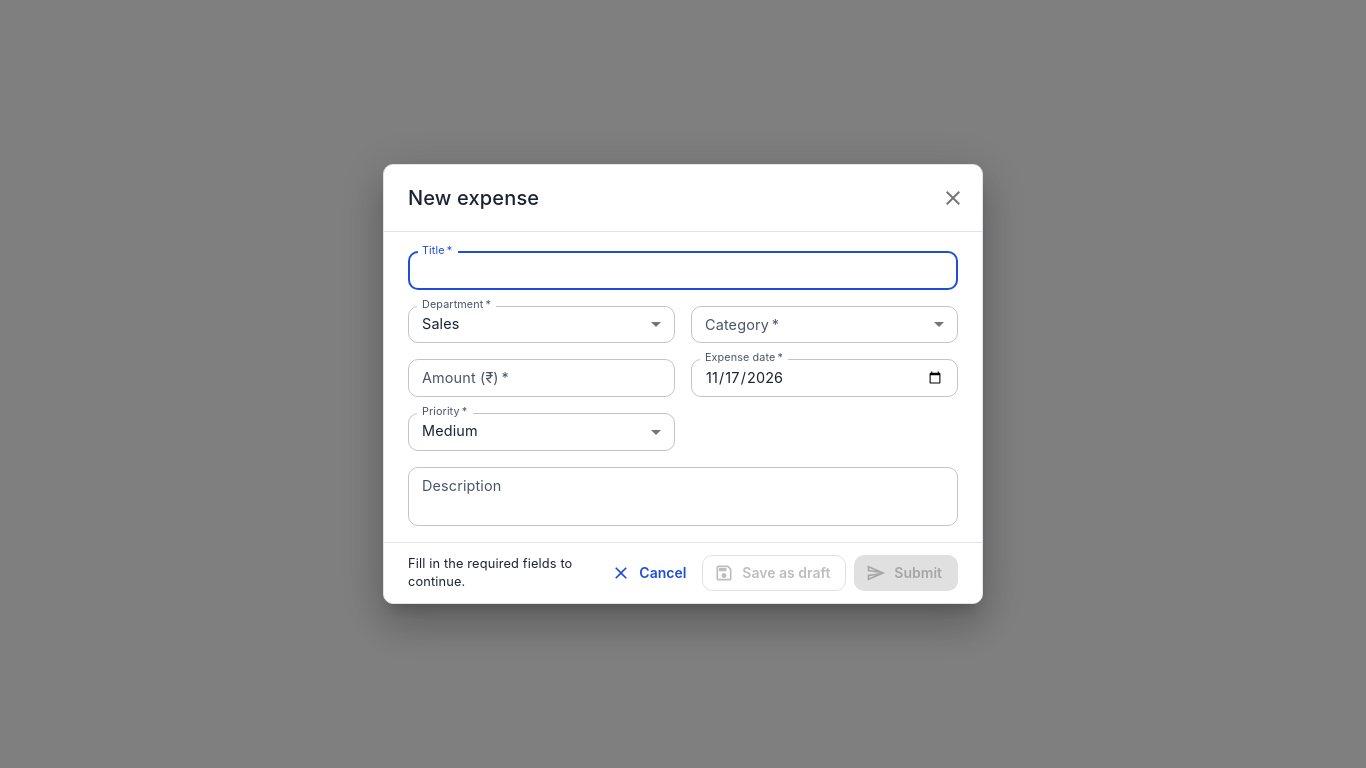
Test case: create expense form › keeps Save as draft and Submit disabled until the required fields are valid
Expected: the button "Save as draft" is disabled, left=702, top=555, right=846, bottom=591
Expected: the button "Submit" is disabled, left=854, top=555, right=958, bottom=591
Type "Airport Taxi" into the field labelled "Title *". click: [683, 271]
box: left=408, top=252, right=958, bottom=290
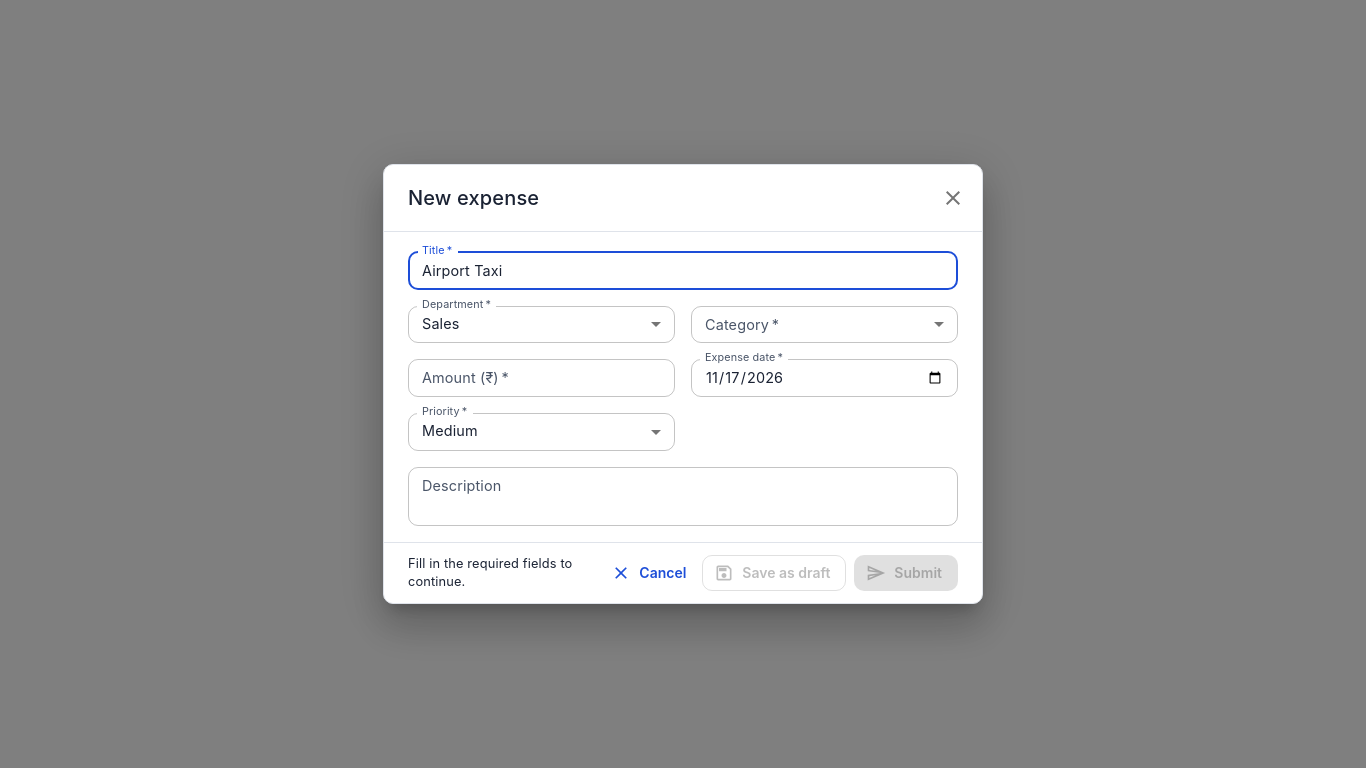
Click the dropdown named "category". click: [824, 324]
box: left=691, top=306, right=958, bottom=343
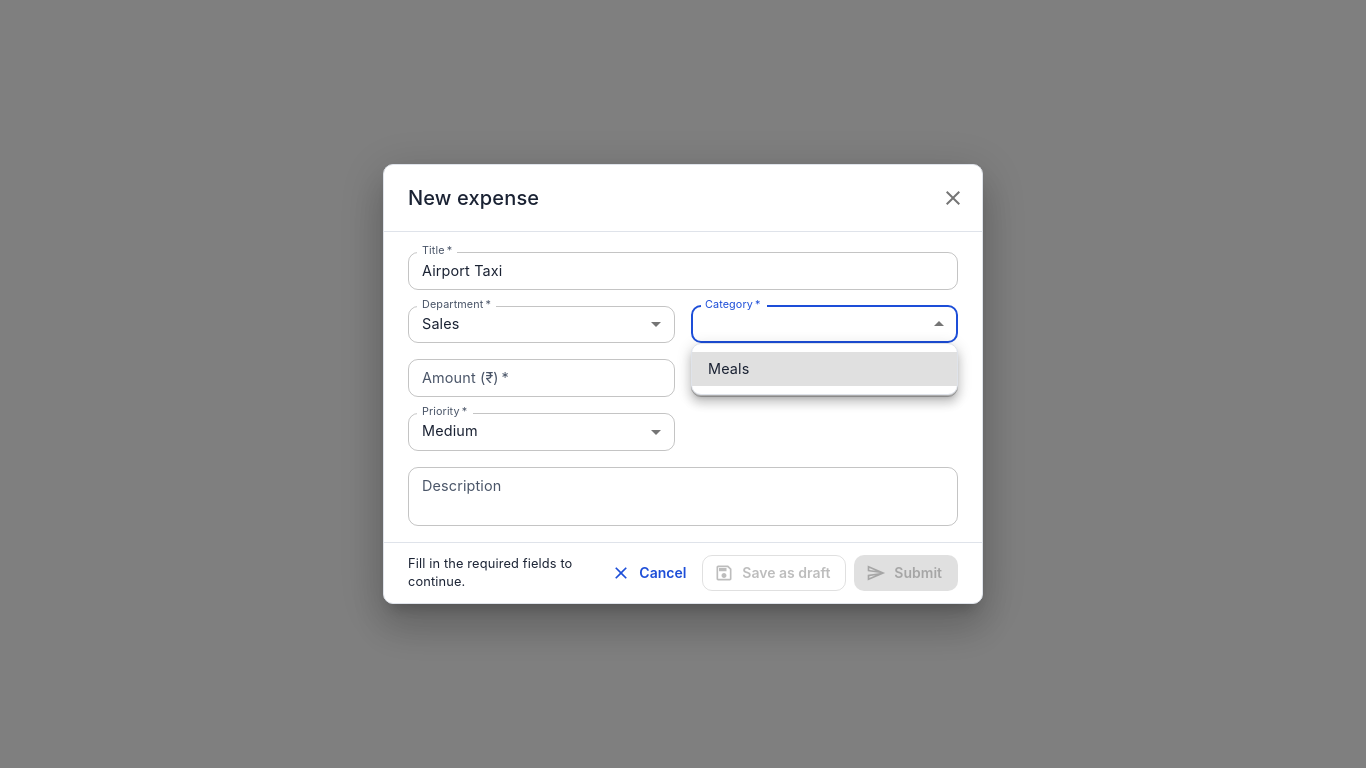
Click the option "Meals". click: [729, 368]
box: left=692, top=352, right=957, bottom=386
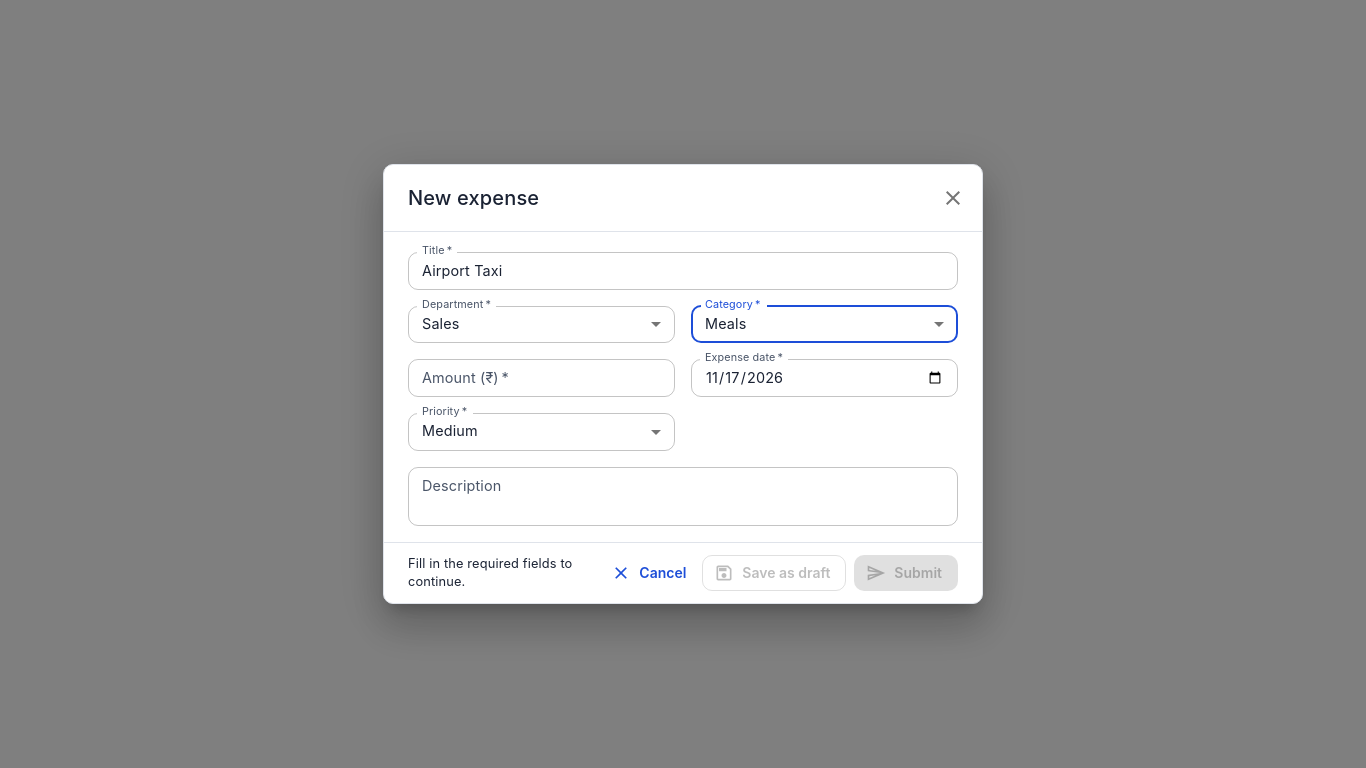
Expected: the button "Save as draft" is disabled, left=702, top=555, right=846, bottom=591
Type "950" into the number field labelled "Amount (₹) *". click: [542, 378]
box: left=408, top=359, right=675, bottom=397
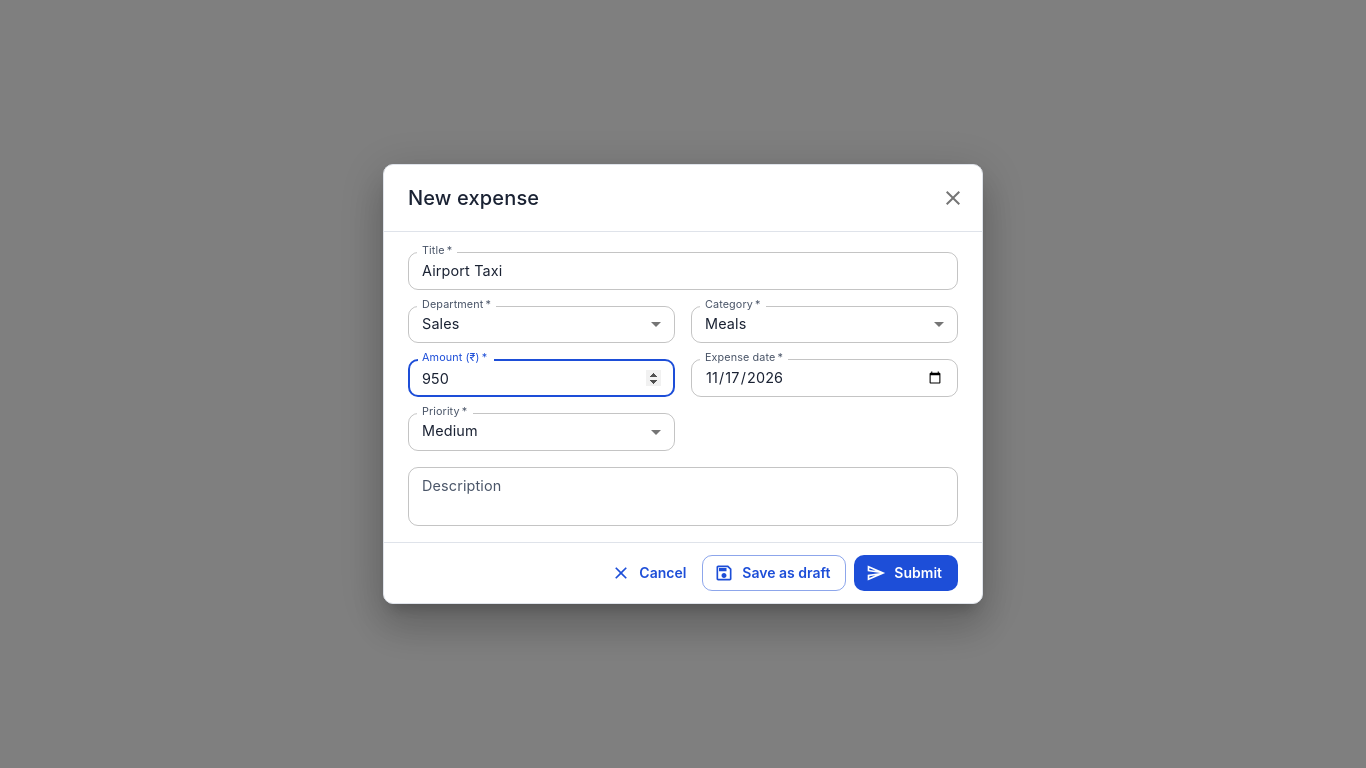
Now the button "Save as draft" is enabled, box left=702, top=555, right=846, bottom=591
Now the button "Submit" is enabled, box left=854, top=555, right=958, bottom=591
Now the text "Fill in the required fields to continue." is gone
